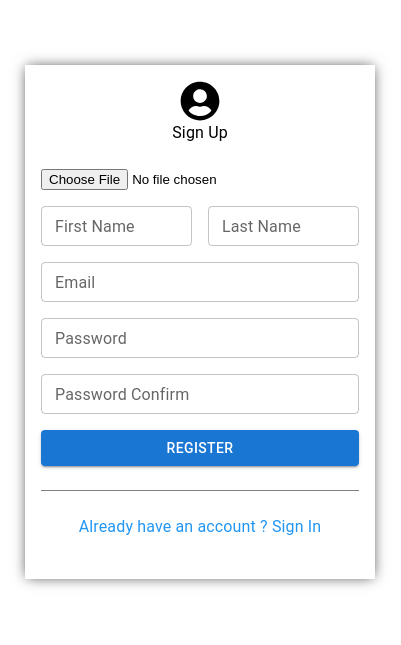
Test case: Register › form validation › if not valid
The width and height of the screenshot is (401, 645).
In the password field labelled "Password": [200, 338] box [41,318,359,358], type "password"
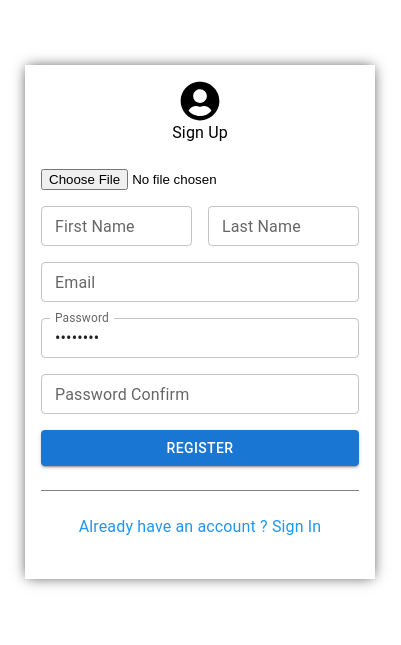
In the password field labelled "Password Confirm": [200, 394] box [41,374,359,414], type "password2"
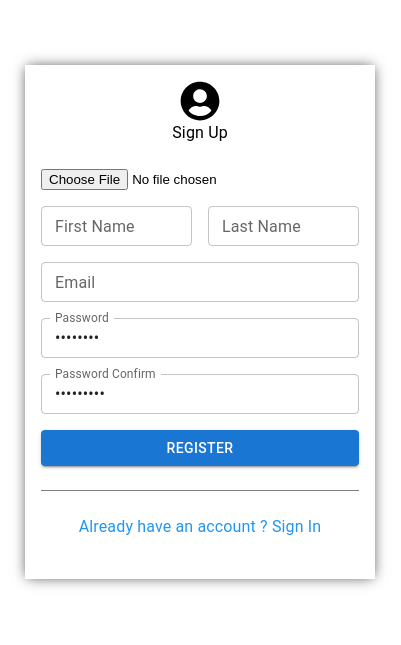
Submit the form with test id "form", box [41,169,359,466]
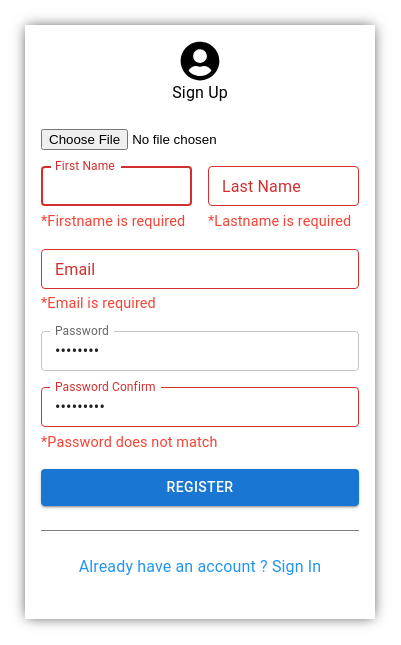
Expected: the text "Password does not match" is shown, [47,434,218,451]
